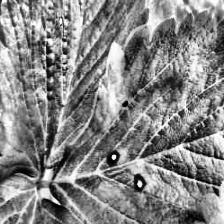Leaf Spot: (47, 5, 224, 223), (0, 0, 149, 181)
